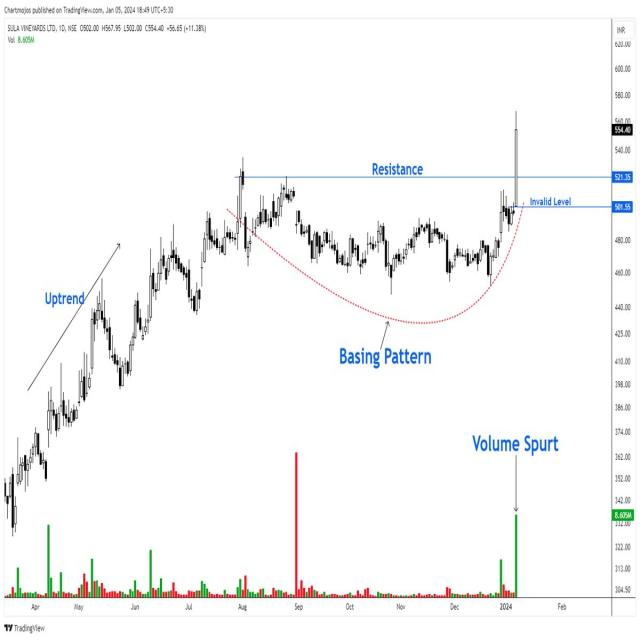Cup-and-handle: (290, 176, 521, 290)
